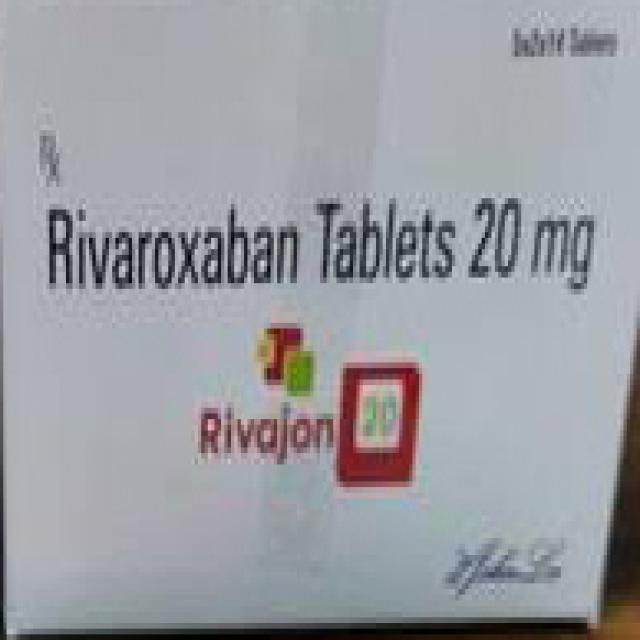drug-name: (198, 402, 335, 466)
